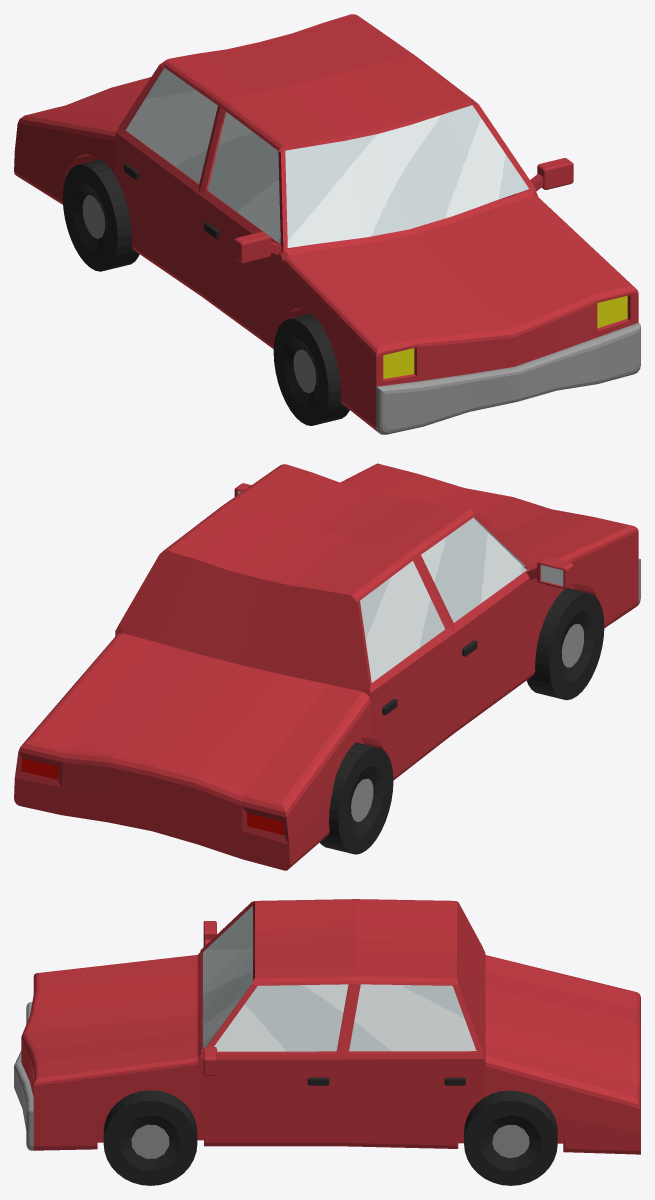
File: Mobil .fbx
3 renders of one model, top to bottom at view 1: azimuth 30°, elevation 25°; view 2: azimuth 150°, elevation 25°; view 3: azimuth 270°, elevation 25°, orthographic. The views are drawn at different scales.
Visible parts, largest first — view 1: Cylinder.004; view 2: Cylinder.004; view 3: Cylinder.004.
Boxes of the visible parts, x1=… form: Cylinder.004: x1=14, y1=14, x2=640, y2=434; Cylinder.004: x1=14, y1=463, x2=640, y2=870; Cylinder.004: x1=14, y1=899, x2=640, y2=1185.
Size of the model in its own units: 373 by 239 by 713.
7 materials, 1 textured.
